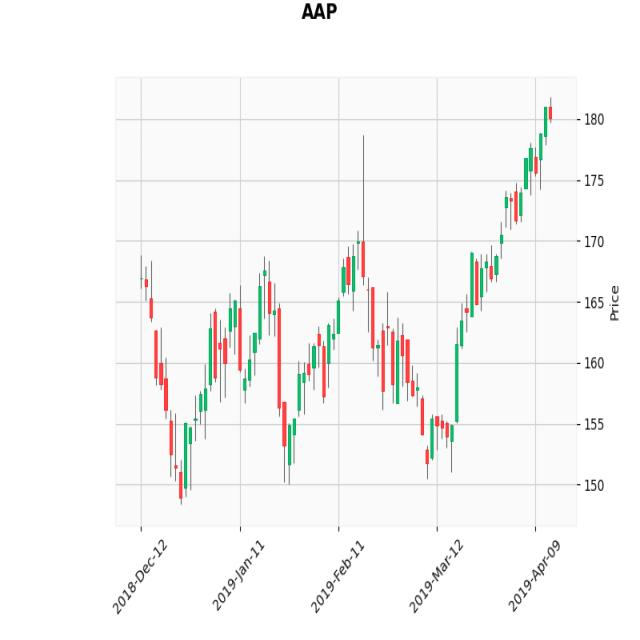Triple-Bottom: (139, 222, 485, 501)
